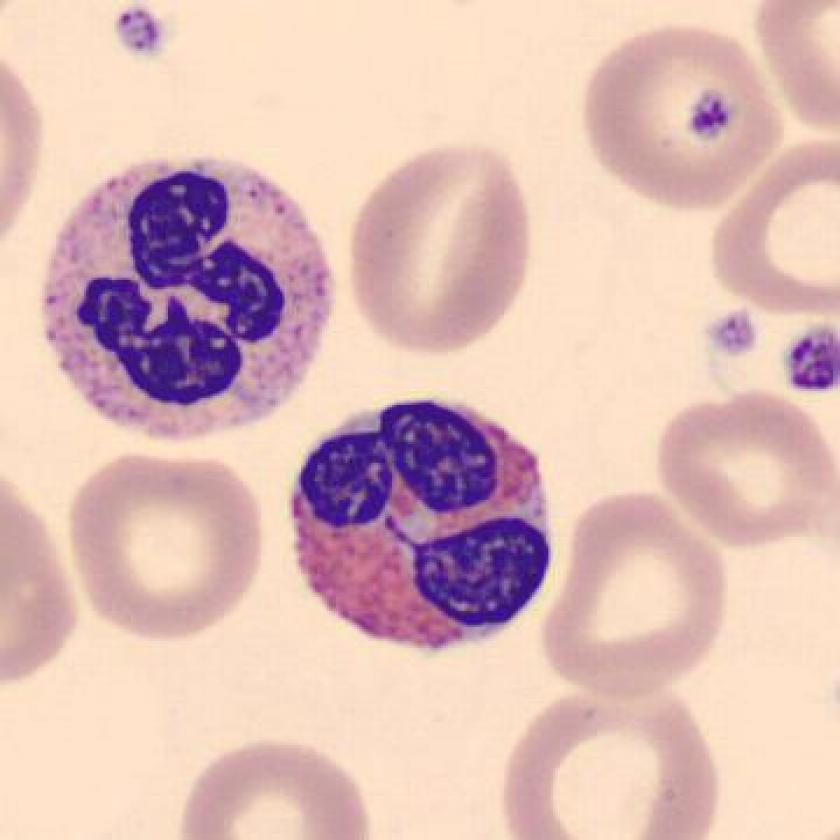eosinophil: (276, 383, 566, 660)
